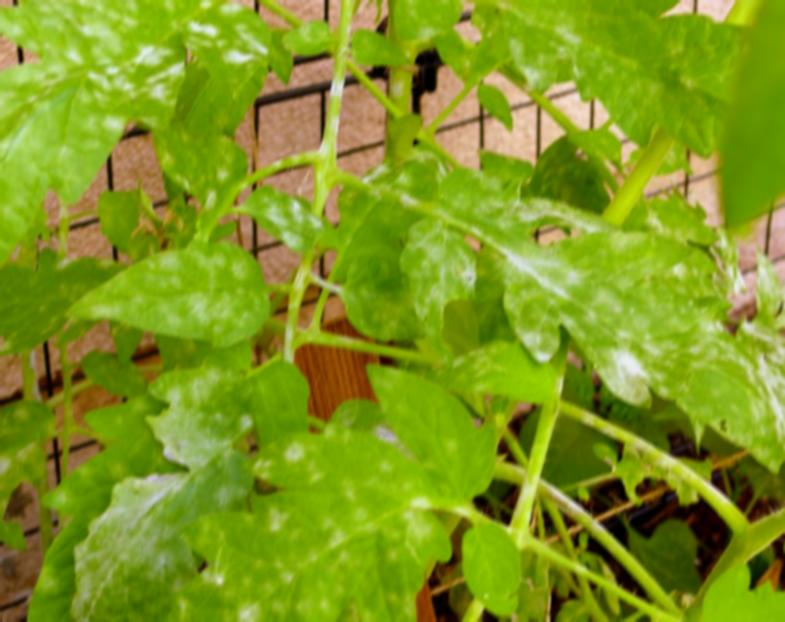Tomato mold leaf: (404, 166, 784, 477), (0, 0, 214, 466), (170, 363, 509, 622), (454, 0, 779, 141), (42, 238, 289, 343), (253, 185, 345, 256)
